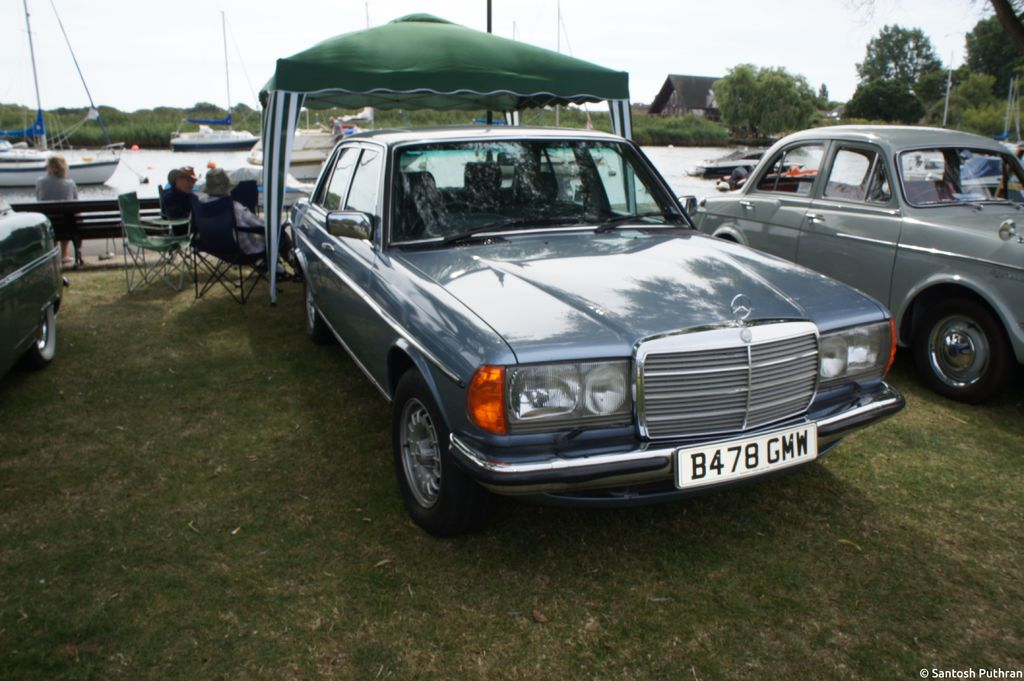person: (192, 168, 301, 276)
